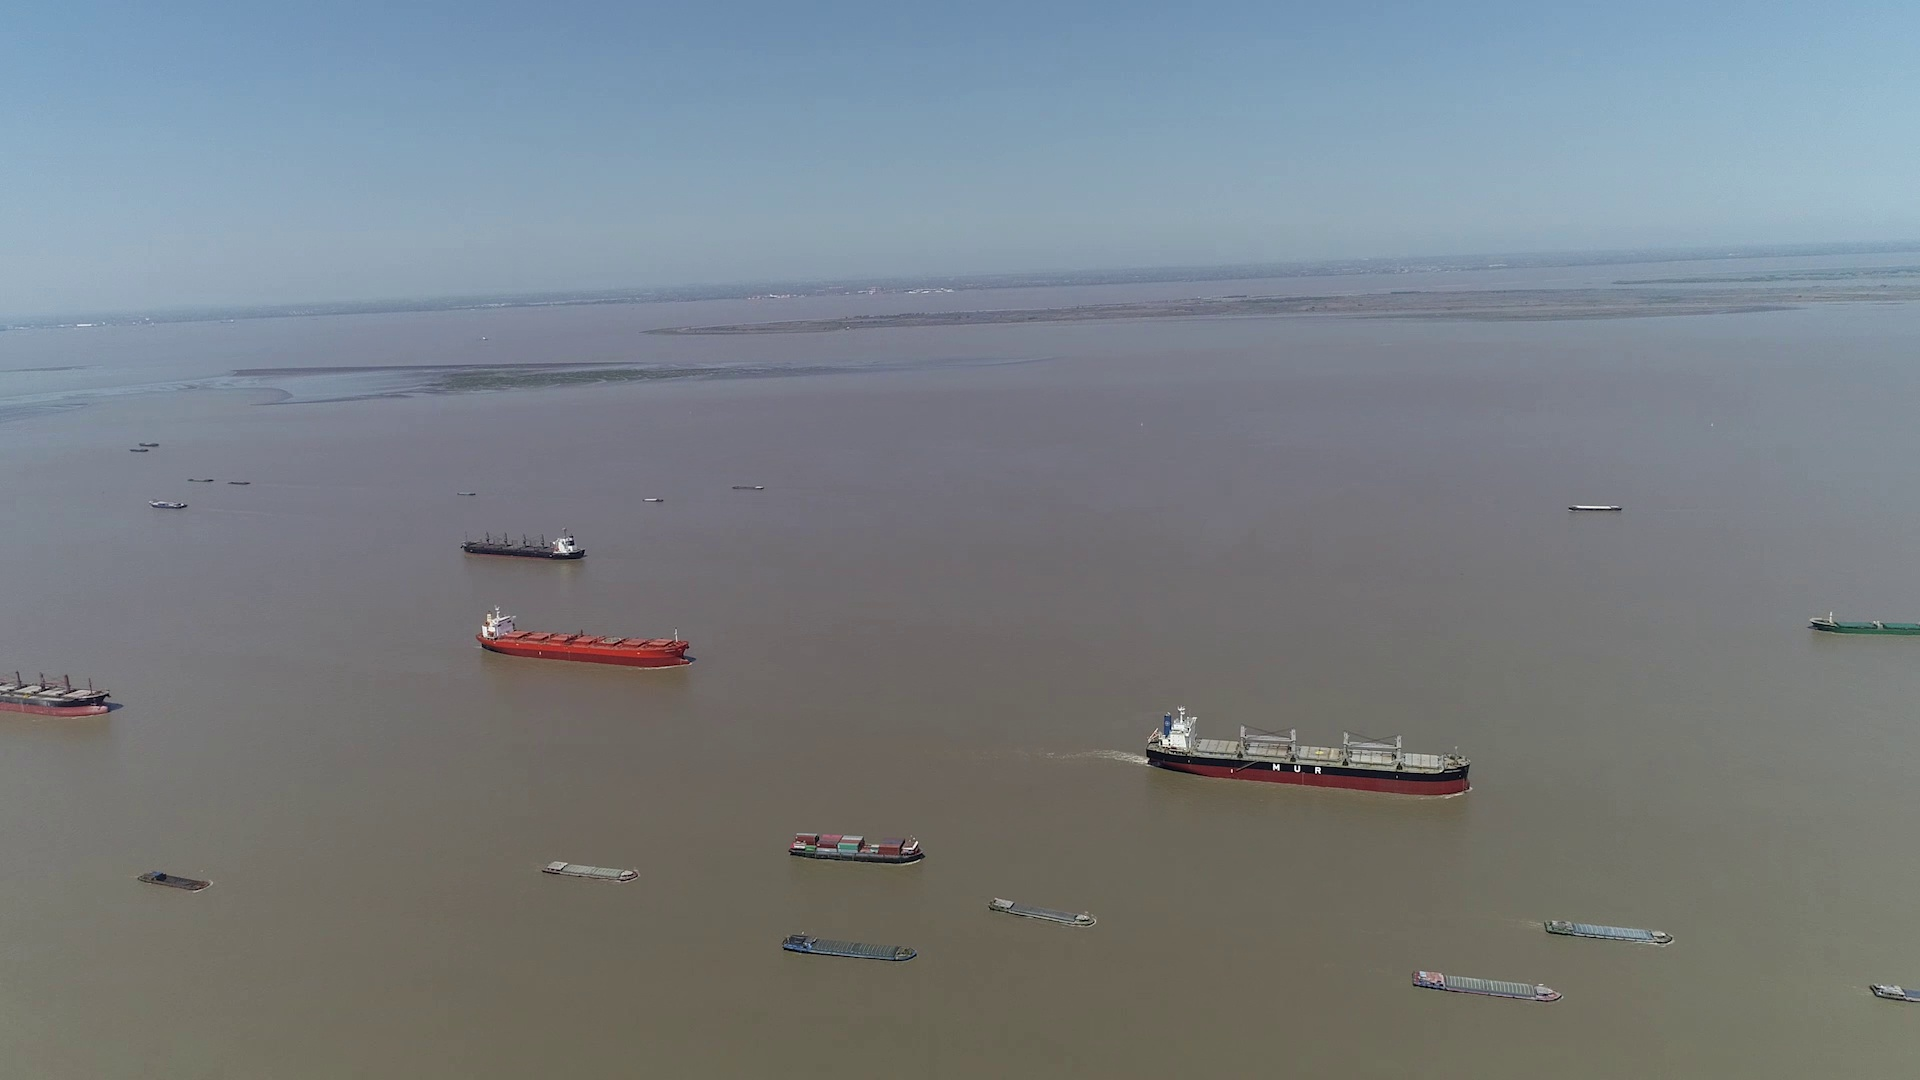ship: (1147, 704, 1470, 795), (479, 608, 688, 669), (1, 657, 117, 719), (1411, 971, 1559, 1004), (787, 829, 923, 864), (462, 529, 587, 560), (781, 934, 916, 963), (1542, 919, 1673, 945), (989, 895, 1096, 927), (1811, 612, 1917, 637), (539, 858, 636, 882), (140, 870, 208, 891), (1869, 980, 1919, 1007), (1567, 502, 1622, 512), (148, 498, 189, 510), (640, 495, 665, 502)
